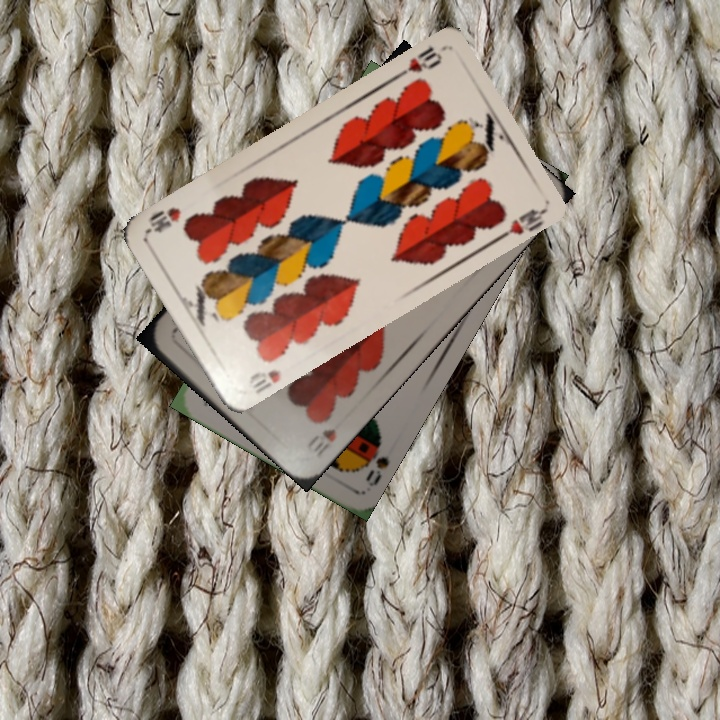H10: (391, 42, 445, 82), (243, 365, 283, 396), (309, 424, 340, 459)
SO: (354, 431, 392, 490)
